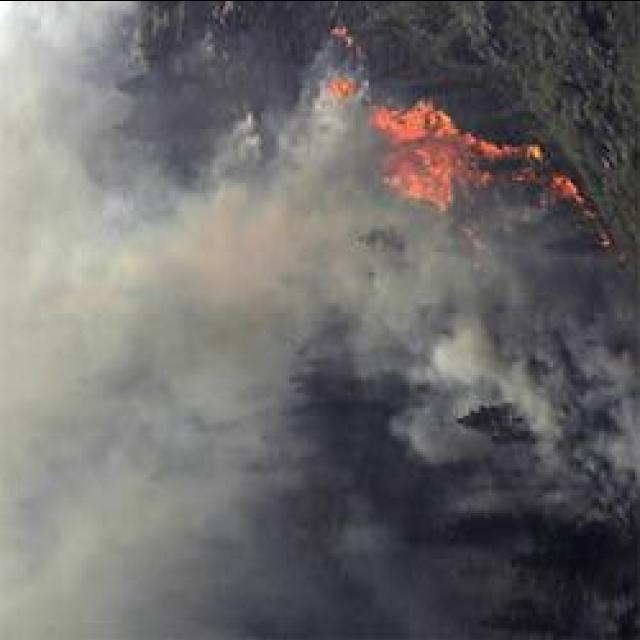fire: (401, 148, 452, 194), (381, 108, 436, 138), (554, 177, 580, 200), (525, 141, 546, 159), (477, 138, 500, 152)
smoke: (141, 492, 268, 634), (26, 457, 136, 609), (2, 0, 72, 226), (96, 398, 232, 514), (185, 177, 338, 279), (86, 234, 232, 334), (150, 306, 276, 411), (354, 266, 456, 380), (26, 354, 160, 434), (212, 108, 316, 181), (48, 4, 130, 90), (326, 212, 434, 276), (594, 343, 640, 468), (51, 132, 123, 206), (538, 384, 610, 456), (434, 310, 496, 393), (502, 334, 570, 399), (387, 393, 455, 458), (329, 518, 389, 570), (287, 104, 357, 146)
